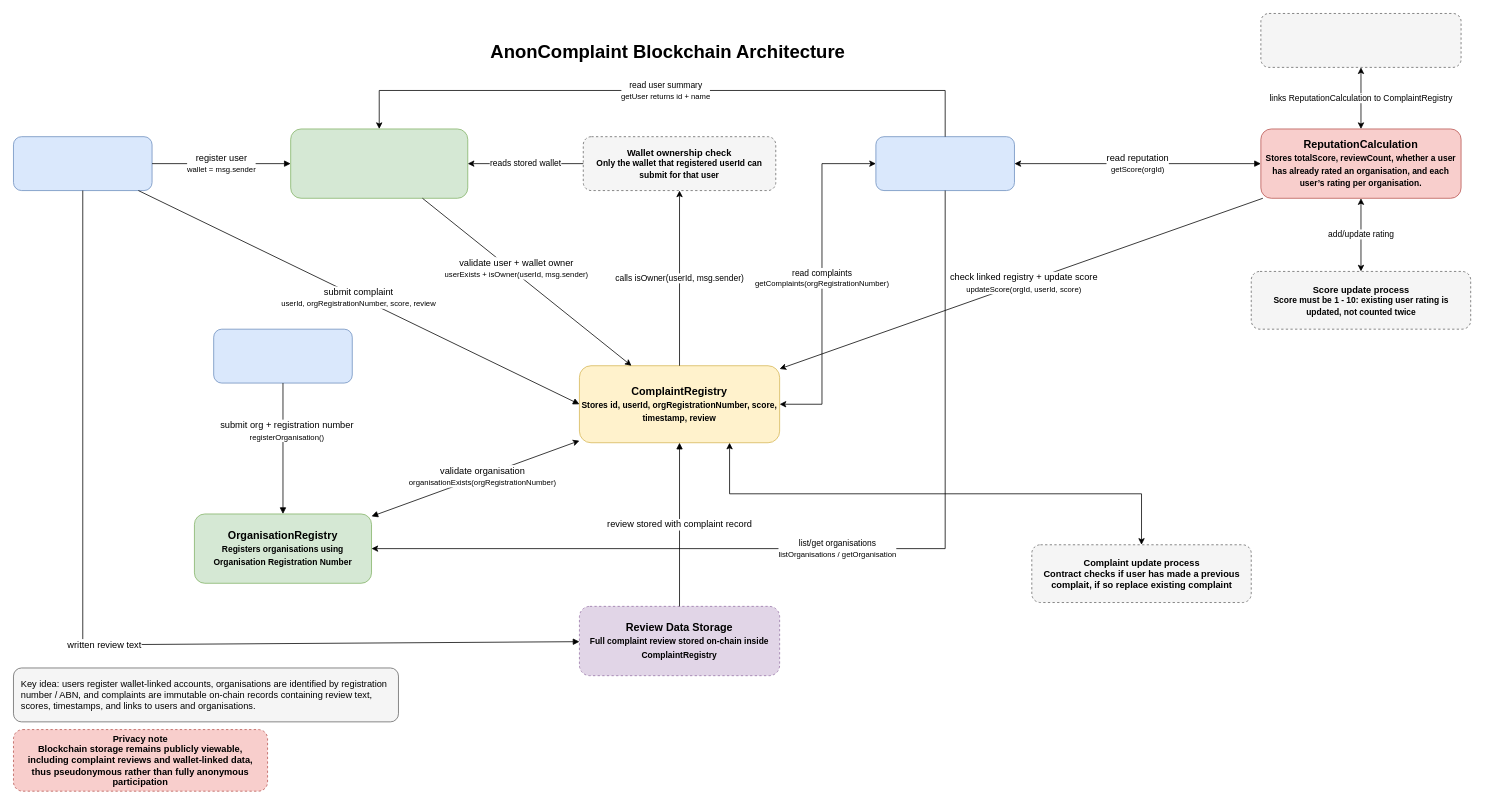
Image size: 1485x805. Some labels were removed from this diagram. Each missing label, with the centre of its shape:
Deployment / setup process Owner calls setComplaintRegistry(address) once: the point at 1360,40
Organisation Submitter (Requires Gas): the point at 282,355
Public Viewer: the point at 944,163
User / Voting Body: the point at 82,163
UserRegistry Registers users / voting bodies: the point at 379,163
